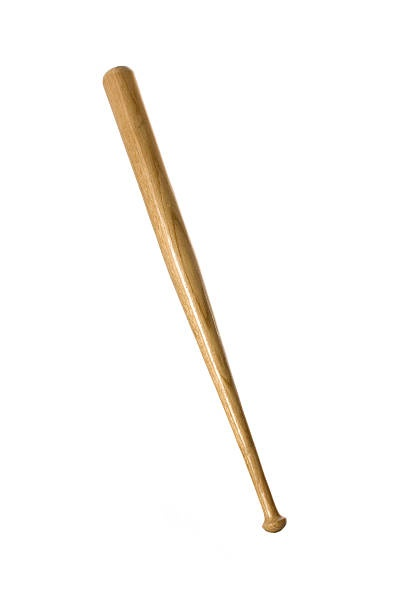bita: (104, 69, 286, 530)
